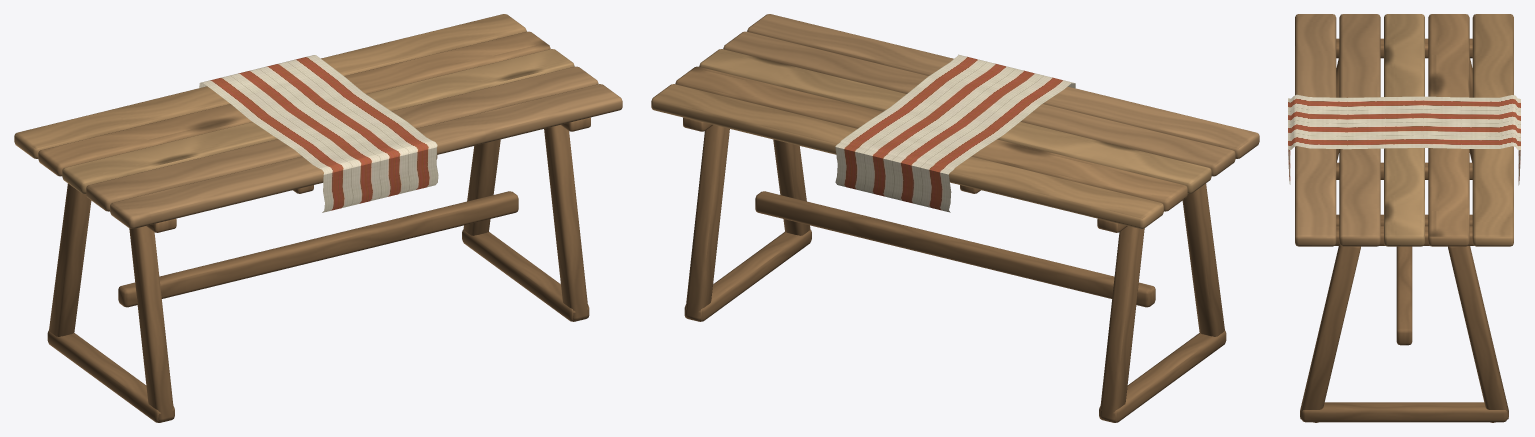
Rendered from study-table-long.glb.
3 renders of one model, left to right at view 1: azimuth 30°, elevation 25°; view 2: azimuth 150°, elevation 25°; view 3: azimuth 270°, elevation 25°, orthographic. The views are drawn at different scales.
Visible parts, largest first — view 1: study-table-long; view 2: study-table-long; view 3: study-table-long.
Boxes of the visible parts, x1,y1,x2,y2 form: study-table-long: (14,14,622,422); study-table-long: (651,14,1259,422); study-table-long: (1288,14,1520,422).
Size of the model in its own units: 2 by 0.859 by 0.88.
Materials: 2 (2 with a texture image).
